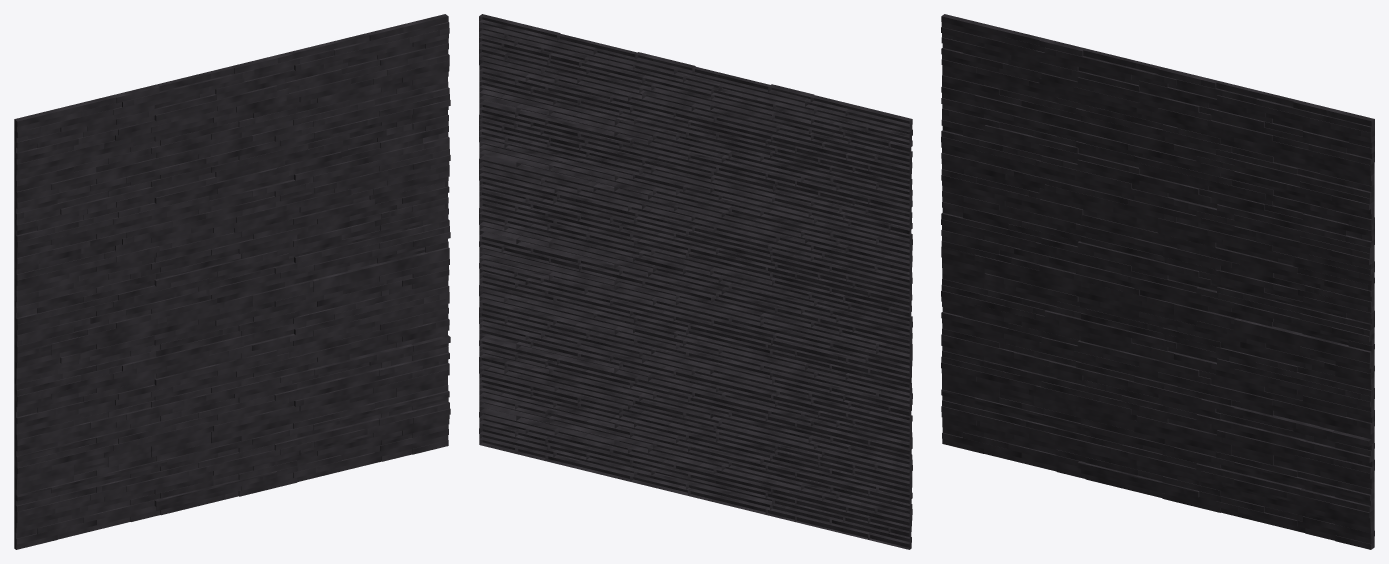
The model's file is RockWall.fbx.
3 renders of one model, left to right at view 1: azimuth 30°, elevation 25°; view 2: azimuth 150°, elevation 25°; view 3: azimuth 330°, elevation 25°, orthographic.
Parts seen in each view (by area): view 1: RockWall; view 2: RockWall; view 3: RockWall.
Boxes of the visible parts, x1=… form: RockWall: x1=14, y1=14, x2=450, y2=549; RockWall: x1=479, y1=14, x2=912, y2=549; RockWall: x1=941, y1=14, x2=1374, y2=549.
Bounding box in the file's own units: 4.03 × 0.0911 × 3.83.
